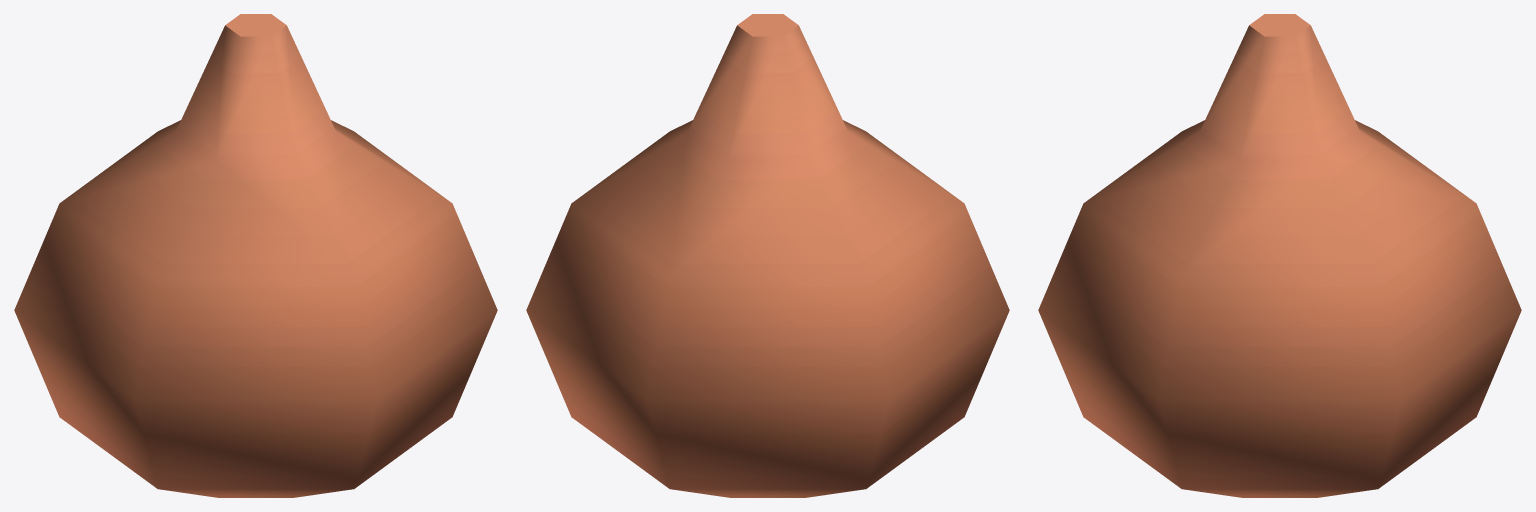
The model's file is onion.4f4b588a5d.glb.
3 views of the same model, side by side, from view 1: azimuth 30°, elevation 25°; view 2: azimuth 150°, elevation 25°; view 3: azimuth 270°, elevation 25° (orthographic).
Visible parts, largest first — view 1: onion; view 2: onion; view 3: onion.
Boxes of the visible parts, x1,y1,x2,y2 form: onion: (14, 14, 497, 497); onion: (526, 14, 1009, 497); onion: (1038, 14, 1521, 497).
Bounding box in the file's own units: 0.213 × 0.25 × 0.246.
Materials: 1 (1 with a texture image).
